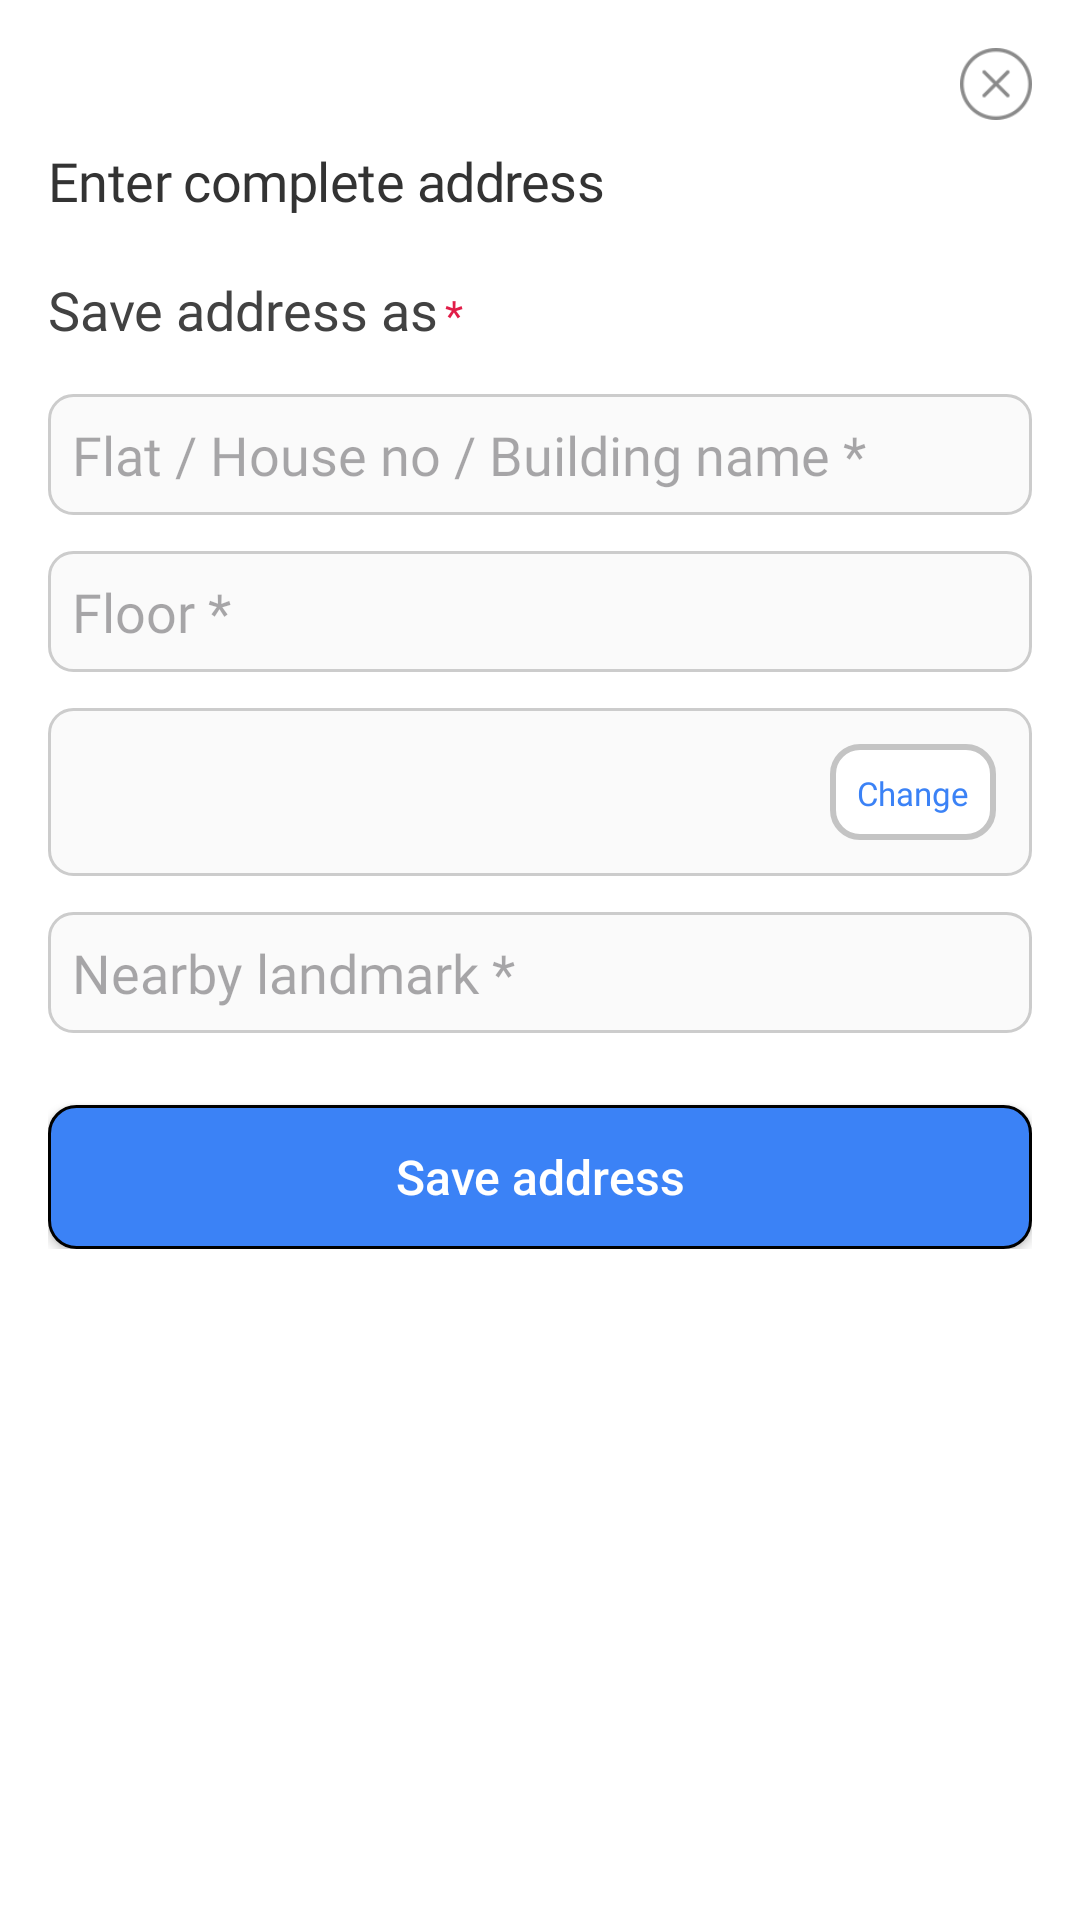

Screen size 1080*1920. Icon name, then its box in pixels as region(x1, y1, x2, y2):
Close: region(960, 48, 1032, 120)
